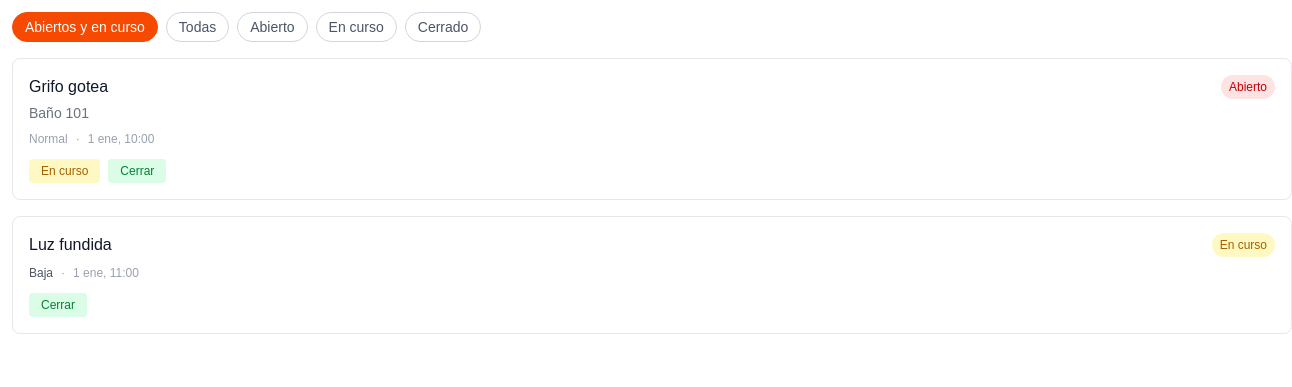
Test: TicketList › si la base de datos rechaza el cambio, muestra el error
Click the button "Cerrar" below "Normal" at (137, 171), box [108, 159, 166, 183]
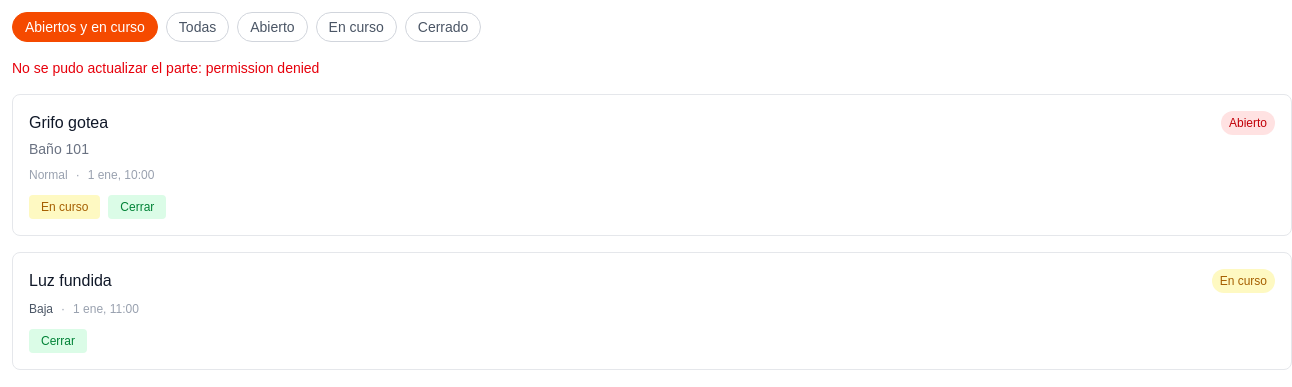
Expected: the message shows "No se pudo actualizar", [12, 60, 319, 76]
